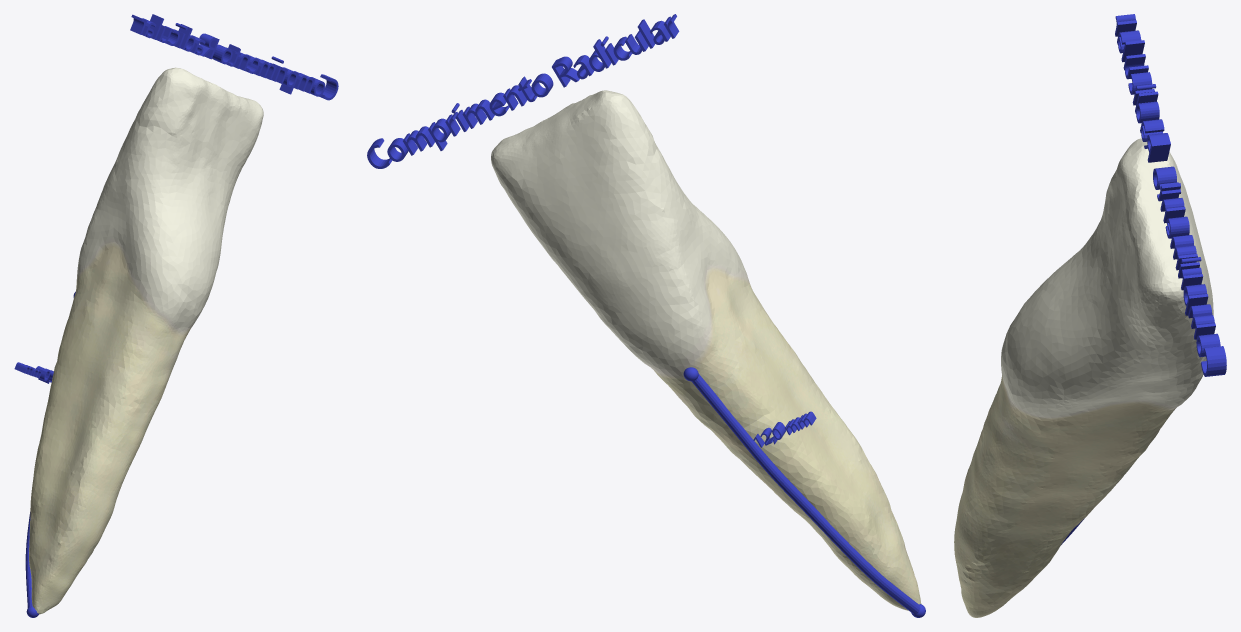
The model's file is 31 - Comprimento Radicular.glb.
The picture shows the model from 3 angles, left to right: view 1: azimuth 30°, elevation 25°; view 2: azimuth 150°, elevation 25°; view 3: azimuth 270°, elevation 25°; orthographic projection. The views are drawn at different scales.
Parts seen in each view (by area): view 1: 3MFMeshParent_0, 3MFMeshParent_1; view 2: 3MFMeshParent_0, 3MFMeshParent_1, 3MFMeshParent_3, 3MFMeshParent_2; view 3: 3MFMeshParent_0, 3MFMeshParent_1.
Part boxes in pixels (x1,y1,x2,y2): 3MFMeshParent_0: (29, 67, 263, 614); 3MFMeshParent_1: (130, 14, 338, 100); 3MFMeshParent_0: (491, 90, 921, 610); 3MFMeshParent_1: (367, 14, 679, 168); 3MFMeshParent_3: (691, 374, 920, 614); 3MFMeshParent_2: (753, 411, 816, 447); 3MFMeshParent_0: (954, 138, 1213, 617); 3MFMeshParent_1: (1115, 14, 1226, 376).
Bounding box in the file's own units: 0.4731 × 0.5962 × 0.2092.
2 materials, 1 textured.
